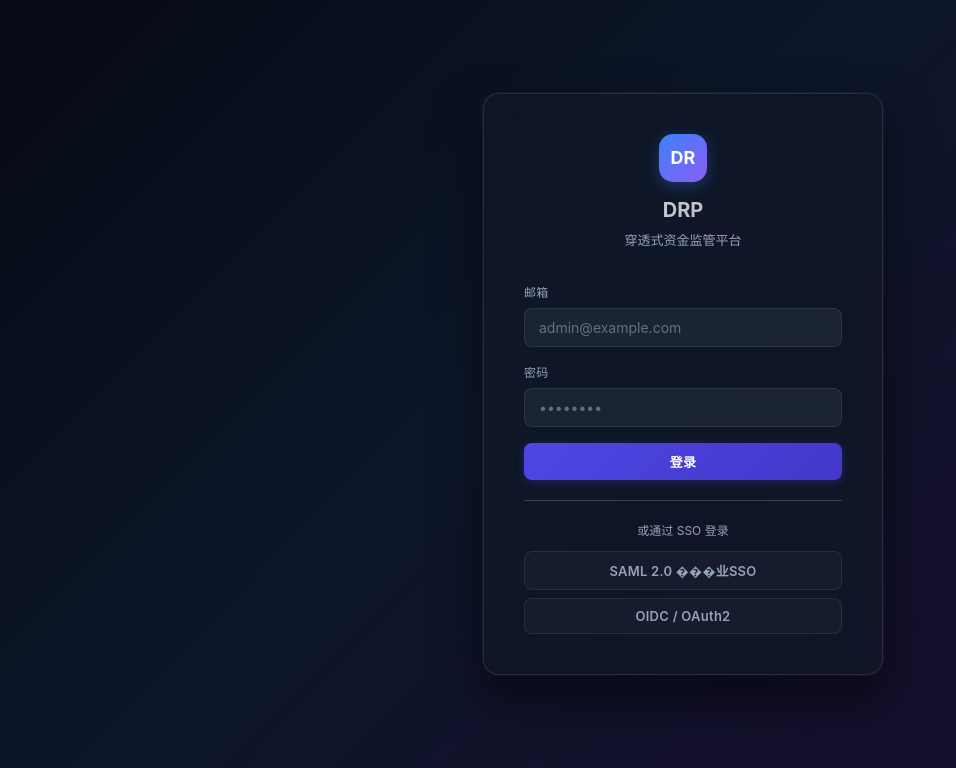
Test: LoginPage 登录失败 › 显示 ErrorBox 错误信息
In the field with placeholder "admin@example.com": (683, 328) [524,308,842,347], type "wrong@example.com"
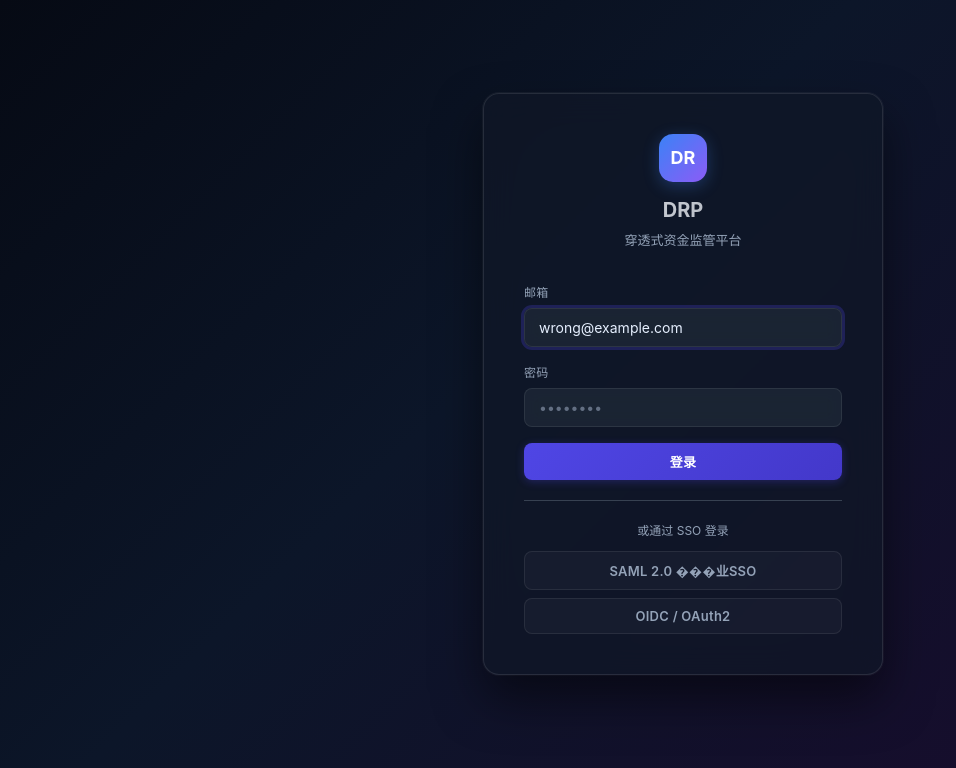
In the password field with placeholder "••••••••": (683, 408) [524,388,842,428], type "wrongpassword"
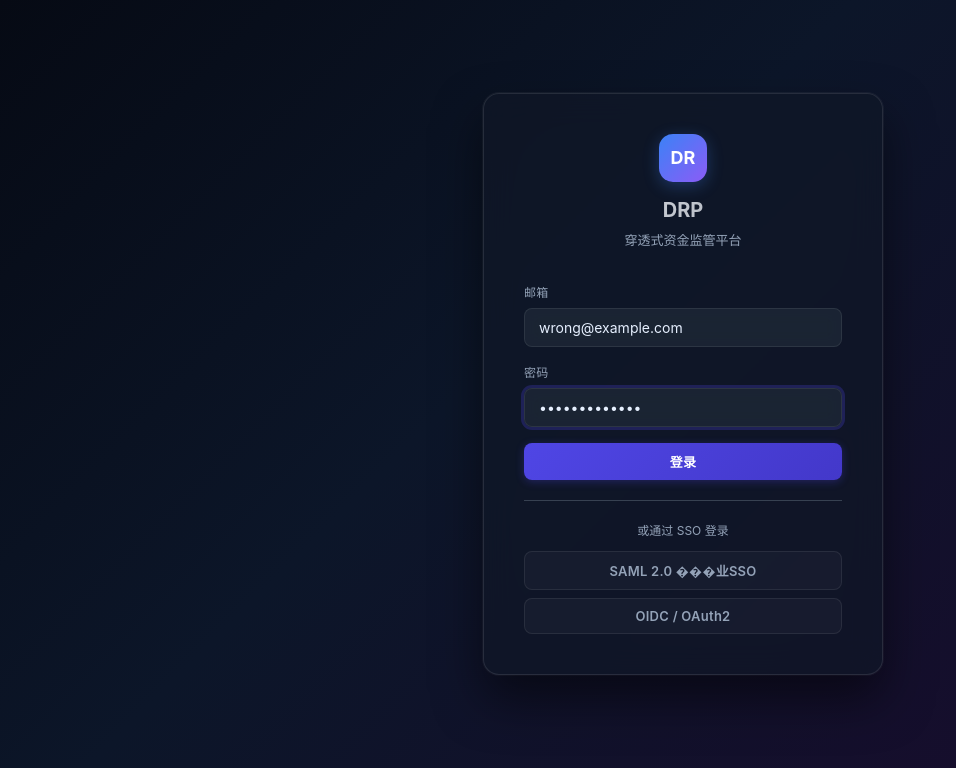
Click the button "登录": (683, 462) [524,444,842,480]
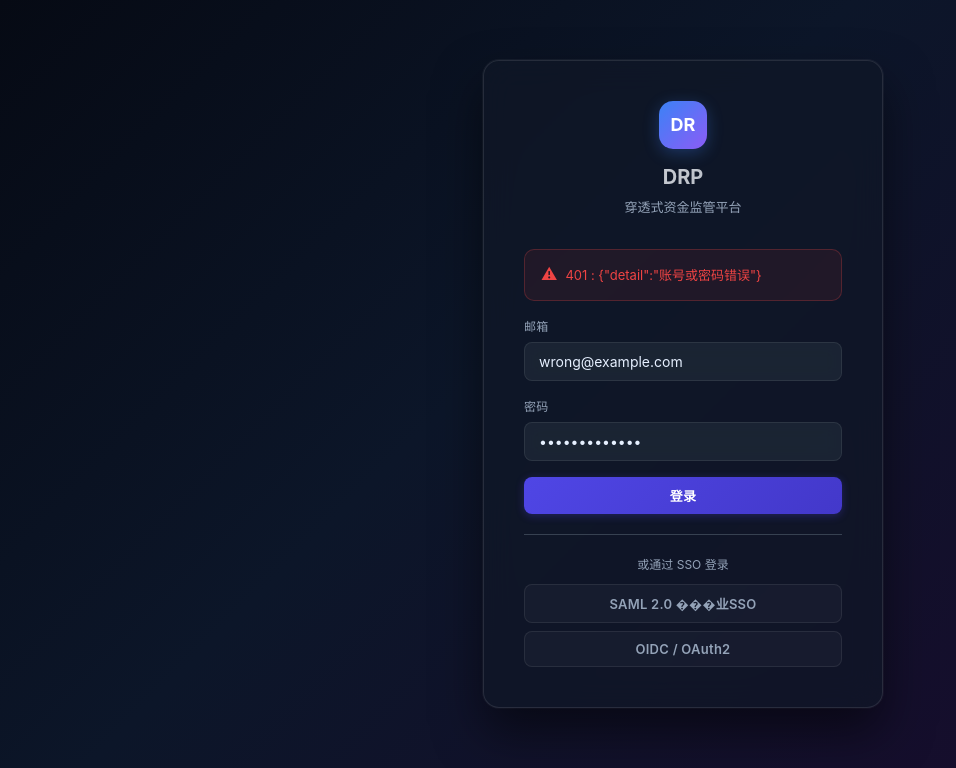
Result: the text "⚠ 401 : {\"detail\":\"账号或密码错误\"}" is shown at [524,249,842,301]
